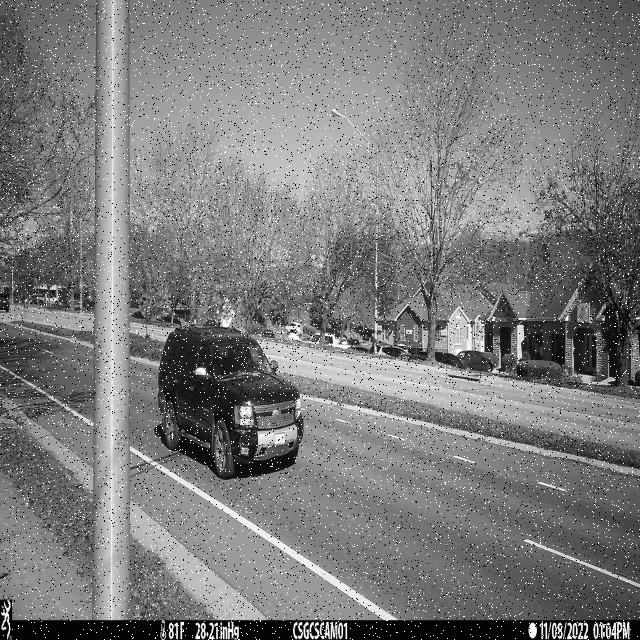SUV: (158, 323, 306, 480)
